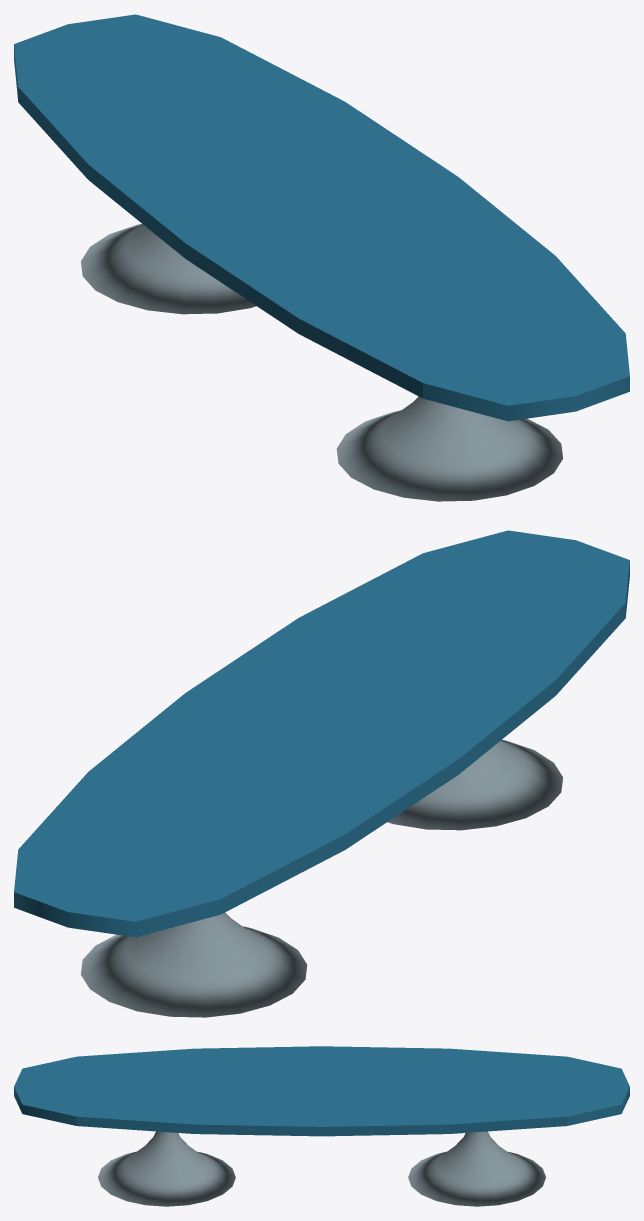
Rendered from Sofa_table.fbx.
3 renders of one model, top to bottom at view 1: azimuth 30°, elevation 25°; view 2: azimuth 150°, elevation 25°; view 3: azimuth 270°, elevation 25°, orthographic. The views are drawn at different scales.
Parts seen in each view (by area): view 1: polySurface87; view 2: polySurface87; view 3: polySurface87.
Boxes of the visible parts, left/top/right/bottom form: polySurface87: left=14, top=14, right=629, bottom=501; polySurface87: left=14, top=530, right=629, bottom=1017; polySurface87: left=14, top=1046, right=629, bottom=1206.
Size of the model in its own units: 2.75 by 1.45 by 8.88.
